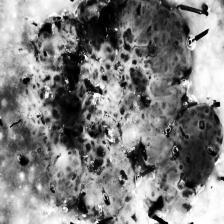Benign Marking or Mole: (0, 0, 216, 220)
